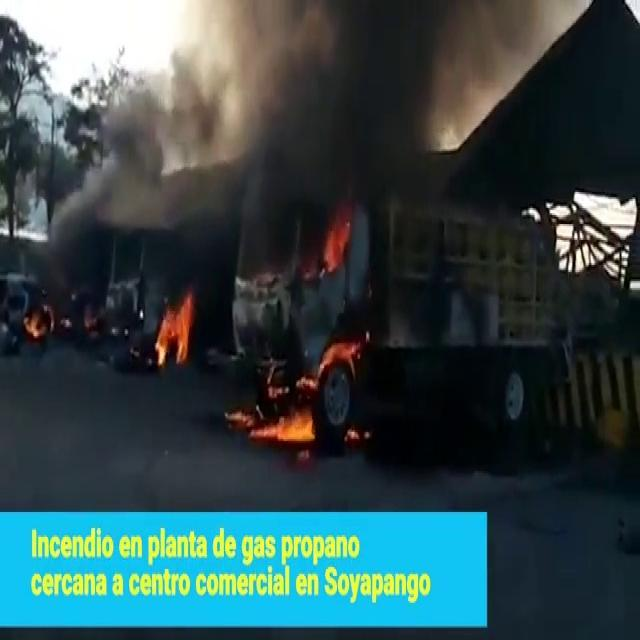Fire: (238, 339, 383, 454), (293, 185, 351, 297), (148, 295, 191, 373), (22, 306, 50, 350)
Smoke: (105, 0, 522, 213), (44, 168, 197, 292)
